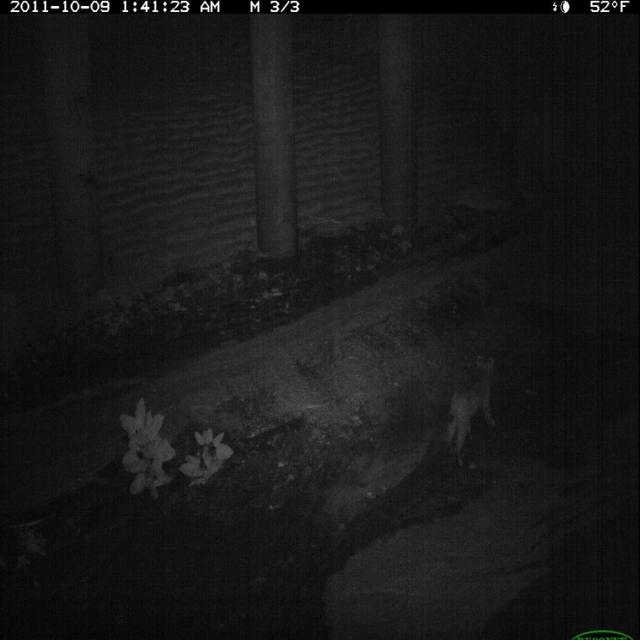bobcat: (440, 348, 501, 470)
